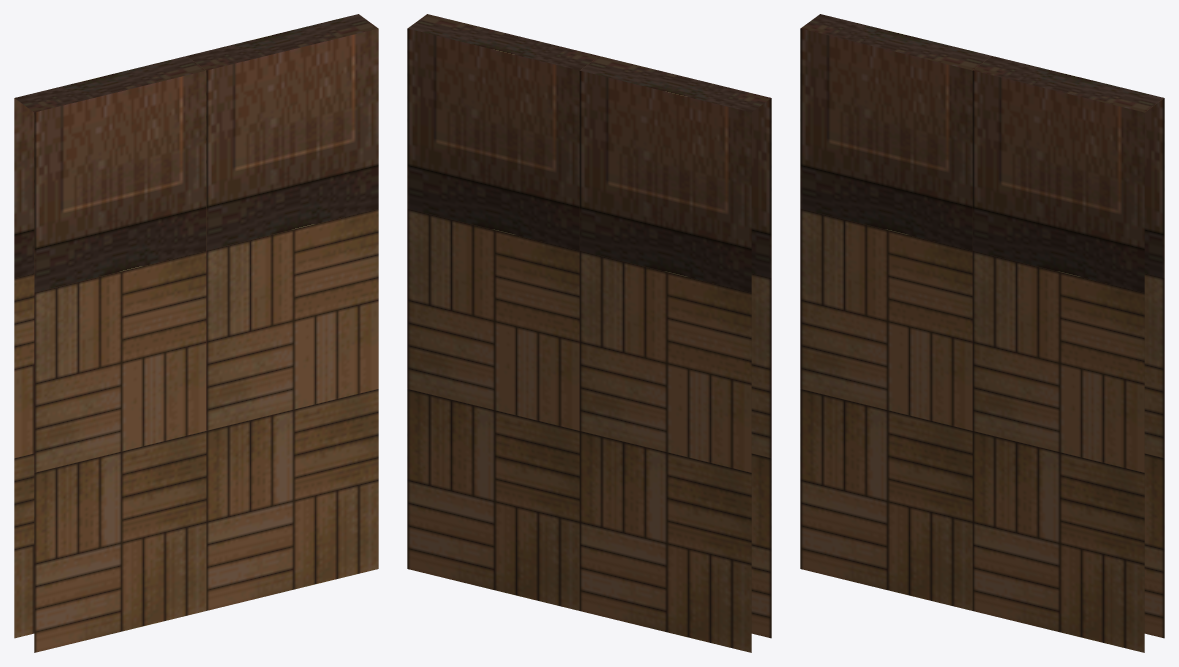
File: SM_wall_panelled_inner.fbx
3 renders of one model, left to right at view 1: azimuth 30°, elevation 25°; view 2: azimuth 150°, elevation 25°; view 3: azimuth 330°, elevation 25°, orthographic.
Parts seen in each view (by area): view 1: wall_panelled_inner; view 2: wall_panelled_inner; view 3: wall_panelled_inner.
Boxes of the visible parts, x1,y1,x2,y2 form: wall_panelled_inner: (14,14,378,652); wall_panelled_inner: (407,14,771,652); wall_panelled_inner: (800,14,1164,652).
Size of the model in its own units: 2 by 3 by 0.2.
